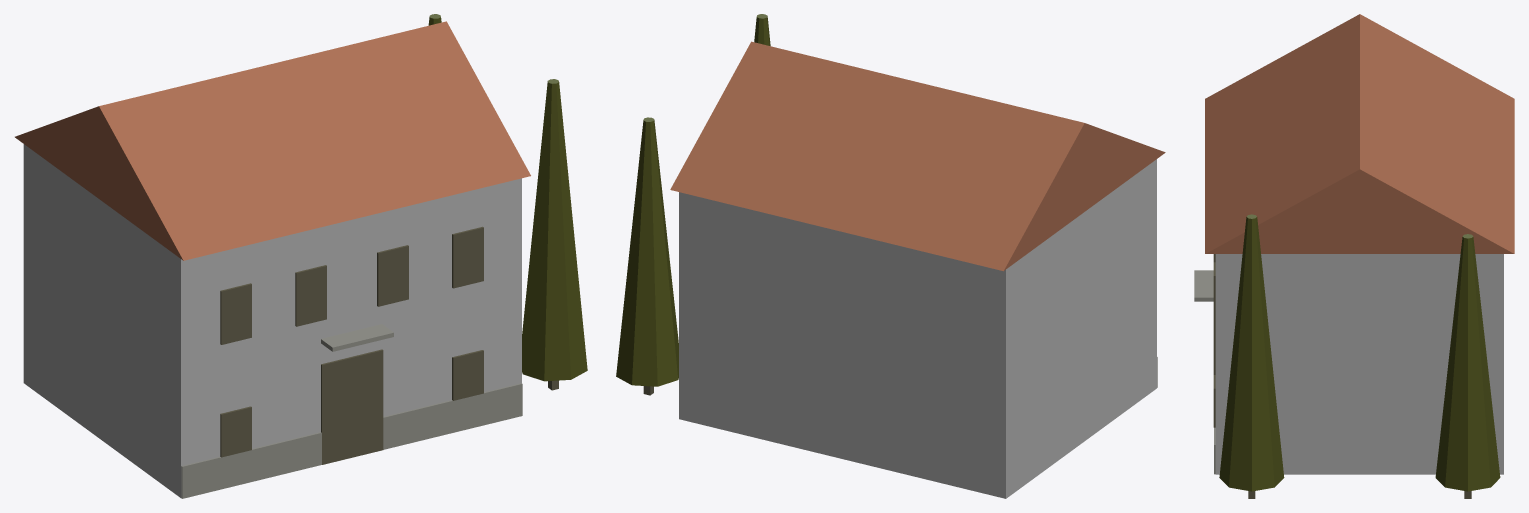
The model's file is SM_CasaLabor_v0_Encalada_LOD0.fbx.
3 renders of one model, left to right at view 1: azimuth 30°, elevation 25°; view 2: azimuth 150°, elevation 25°; view 3: azimuth 270°, elevation 25°, orthographic. The views are drawn at different scales.
Parts seen in each view (by area): view 1: SM_bloques.viveres_nules_v10_LOD0; view 2: SM_bloques.viveres_nules_v10_LOD0; view 3: SM_bloques.viveres_nules_v10_LOD0.
Part boxes in pixels (bbox=[...]): SM_bloques.viveres_nules_v10_LOD0: bbox=[15, 14, 587, 498]; SM_bloques.viveres_nules_v10_LOD0: bbox=[616, 14, 1165, 498]; SM_bloques.viveres_nules_v10_LOD0: bbox=[1194, 14, 1514, 498].
Size of the model in its own units: 12.5 by 9.4 by 8.9.
